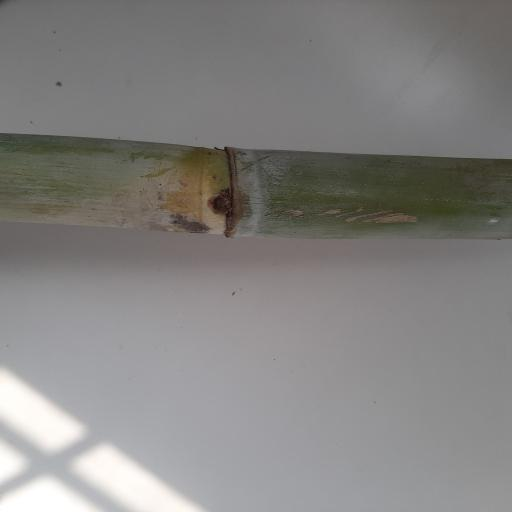Bud: (210, 193, 232, 216)
